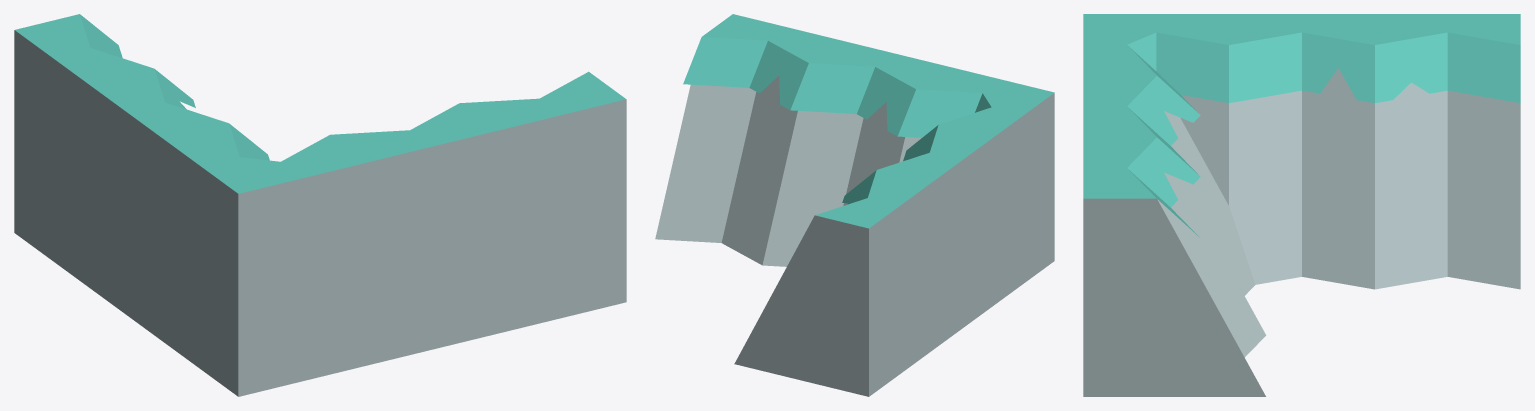
File: cliff_halfCornerInner_stone.glb
3 renders of one model, left to right at view 1: azimuth 30°, elevation 25°; view 2: azimuth 150°, elevation 25°; view 3: azimuth 270°, elevation 25°, orthographic. The views are drawn at different scales.
Parts seen in each view (by area): view 1: cliff_halfCornerInner_stone; view 2: cliff_halfCornerInner_stone; view 3: cliff_halfCornerInner_stone.
Boxes of the visible parts, x1,y1,x2,y2 form: cliff_halfCornerInner_stone: (14,14,626,396); cliff_halfCornerInner_stone: (655,14,1054,396); cliff_halfCornerInner_stone: (1083,14,1520,396).
Bounding box in the file's own units: 1 × 0.5 × 1.
